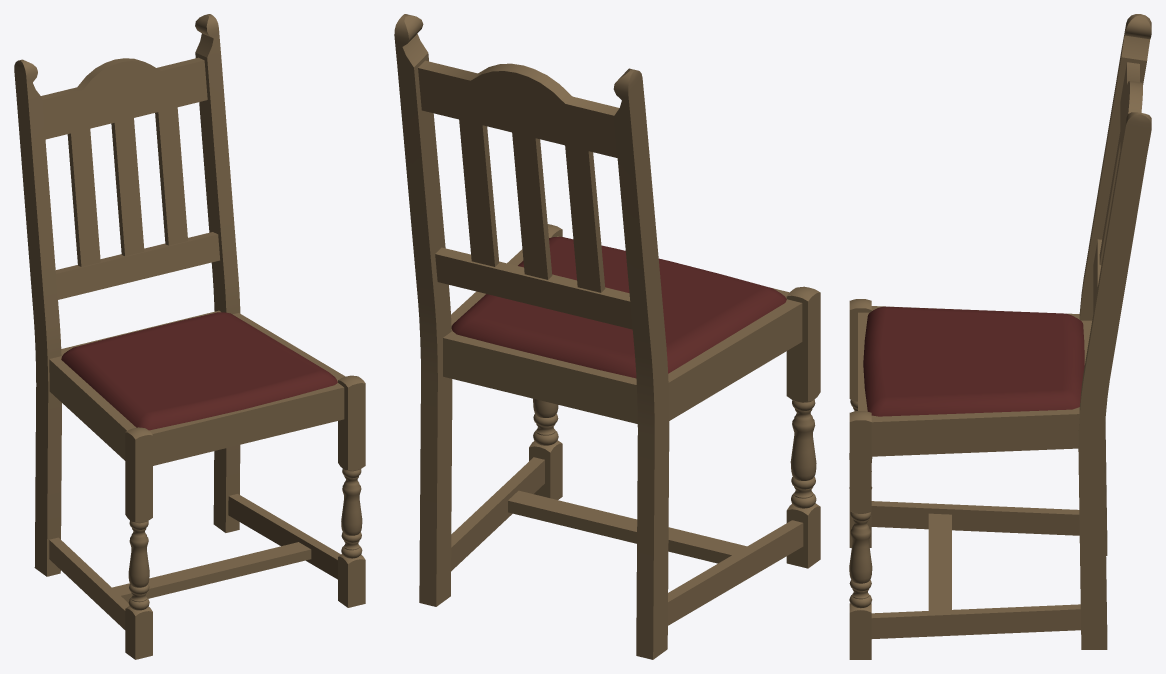
File: sandalye.fbx
3 renders of one model, left to right at view 1: azimuth 30°, elevation 25°; view 2: azimuth 150°, elevation 25°; view 3: azimuth 270°, elevation 25°, orthographic. The views are drawn at different scales.
Visible parts, largest first — view 1: dining_chair_02; view 2: dining_chair_02; view 3: dining_chair_02.
Part boxes in pixels (x1=…): dining_chair_02: x1=14, y1=14, x2=365, y2=659; dining_chair_02: x1=394, y1=14, x2=820, y2=659; dining_chair_02: x1=849, y1=14, x2=1151, y2=659.
Bounding box in the file's own units: 50.03 × 103 × 52.52.
